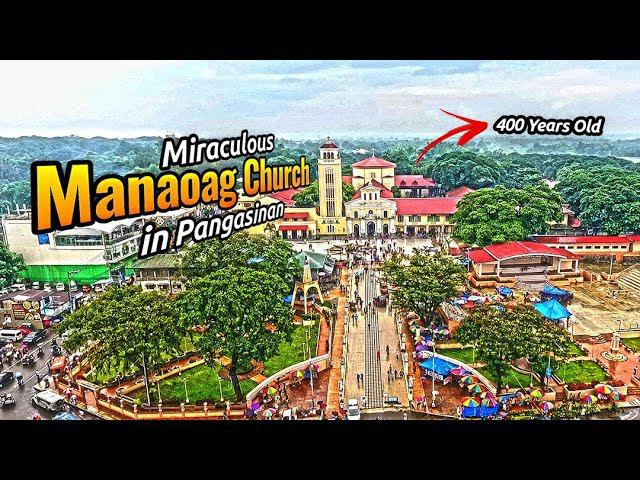manaoag_church_manaoag_pangasinan: (317, 137, 397, 238)
